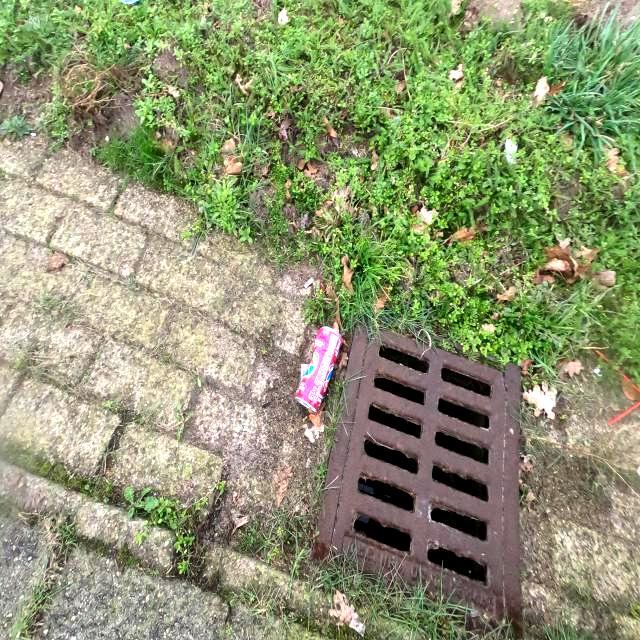Metal: (296, 316, 348, 418)
